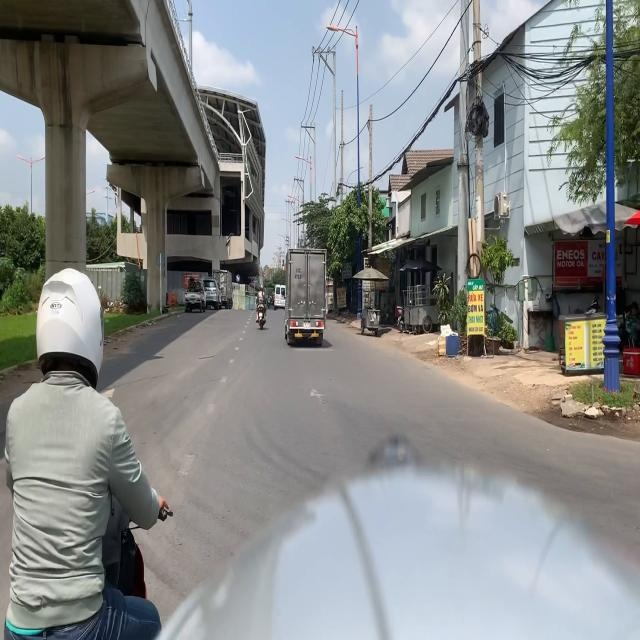bien_hieu_lenh: (236, 274, 240, 282)
